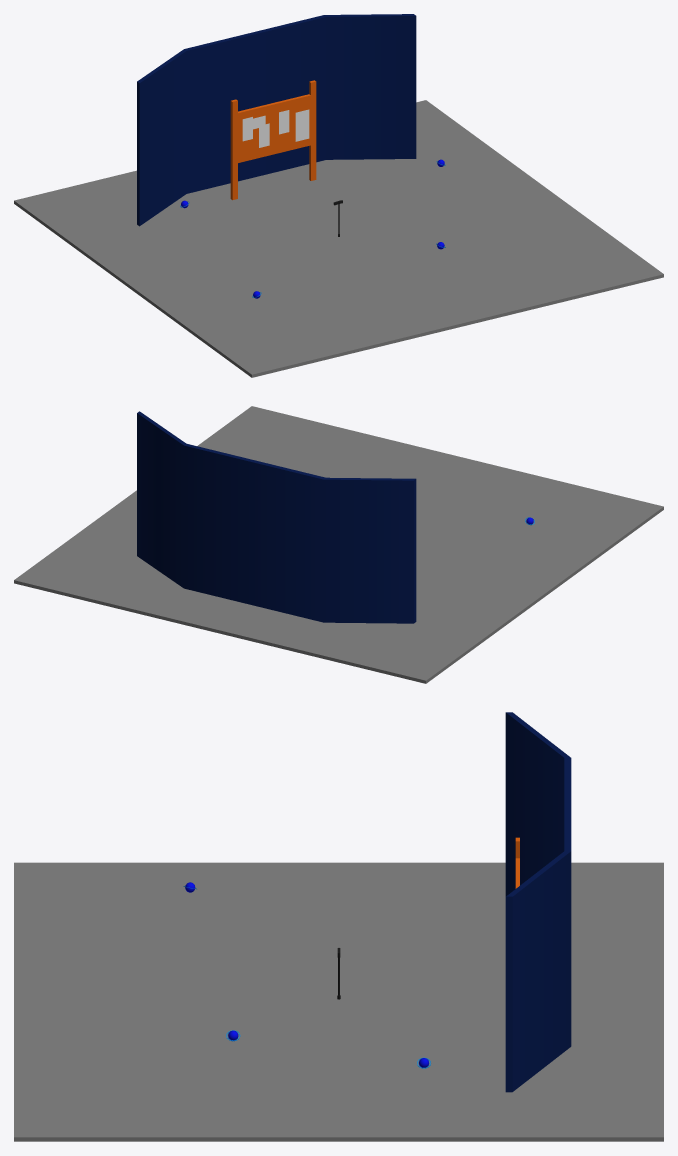
File: Layout.glb
3 renders of one model, top to bottom at view 1: azimuth 30°, elevation 25°; view 2: azimuth 150°, elevation 25°; view 3: azimuth 270°, elevation 25°, orthographic. The views are drawn at different scales.
Visible parts, largest first — view 1: Cube, Plane, Plane.002, Plane.003; view 2: Cube, Plane; view 3: Cube, Plane.
Part boxes in pixels (box(x1,y1,x2,y2)): Cube: box(14, 100, 663, 377); Plane: box(137, 14, 416, 226); Plane.002: box(230, 80, 316, 200); Plane.003: box(242, 109, 309, 147); Cube: box(14, 406, 663, 683); Plane: box(137, 411, 416, 623); Cube: box(14, 862, 663, 1141); Plane: box(505, 712, 571, 1092).
Size of the model in its own units: 6.02 by 2.04 by 6.02.
